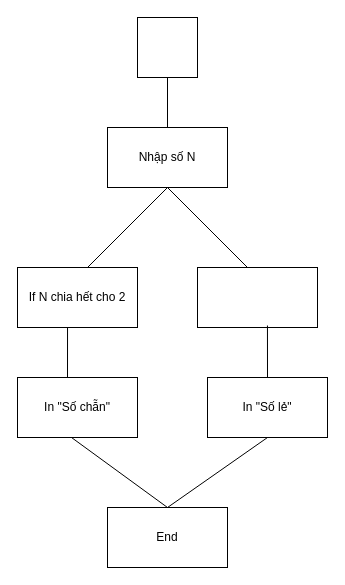
Some shapes in this 345 by 585 pixel diagram are drawn without their labels. The centre of each missing label's shape, as x and y in pixels:
If N ko chia hết cho 2: (x=257, y=297)
Start: (x=167, y=47)
